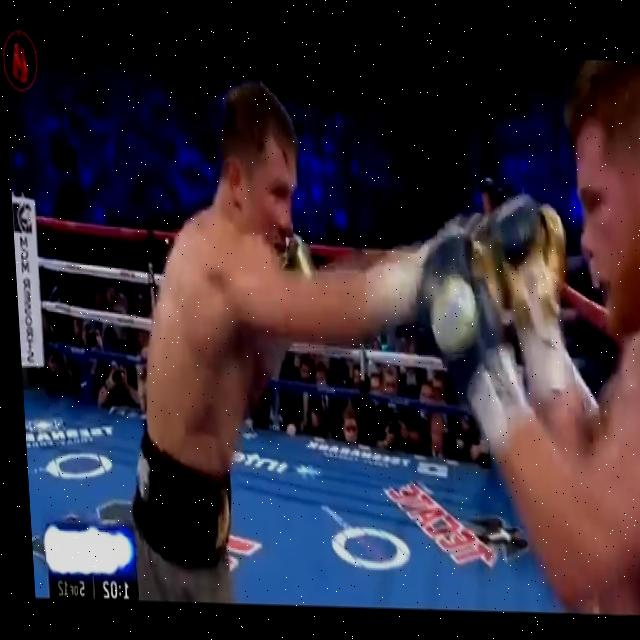Jab: (157, 157, 557, 413)
